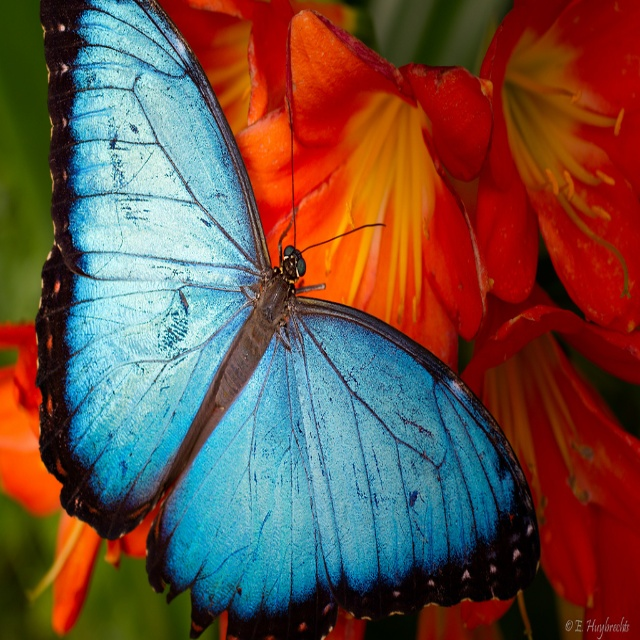Butterfly: (51, 34, 513, 640)
